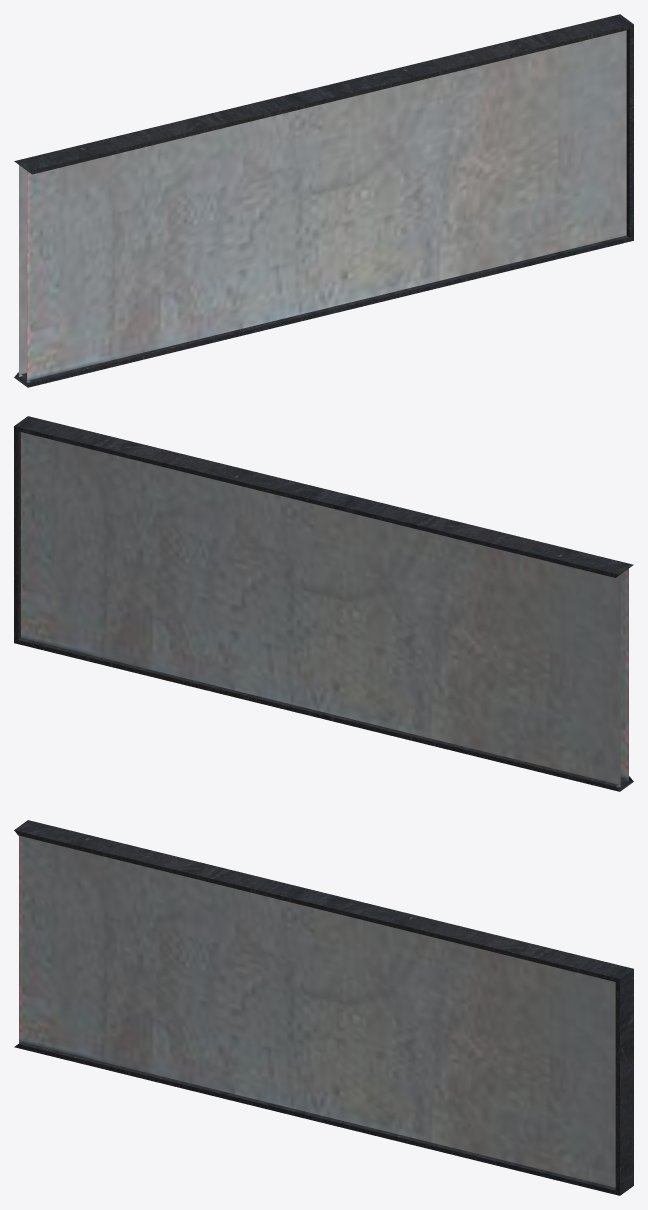
File: u2NEBuild8.gltf
3 views of the same model, one above another, from view 1: azimuth 30°, elevation 25°; view 2: azimuth 150°, elevation 25°; view 3: azimuth 330°, elevation 25° (orthographic).
Parts seen in each view (by area): view 1: u2NEBuild8; view 2: u2NEBuild8; view 3: u2NEBuild8.
Boxes of the visible parts, left/top/right/bottom form: u2NEBuild8: left=14, top=14, right=633, bottom=387; u2NEBuild8: left=14, top=416, right=633, bottom=791; u2NEBuild8: left=14, top=820, right=633, bottom=1195.
Size of the model in its own units: 0.6788 by 0.2318 by 0.0287.
2 materials, 2 textured.
